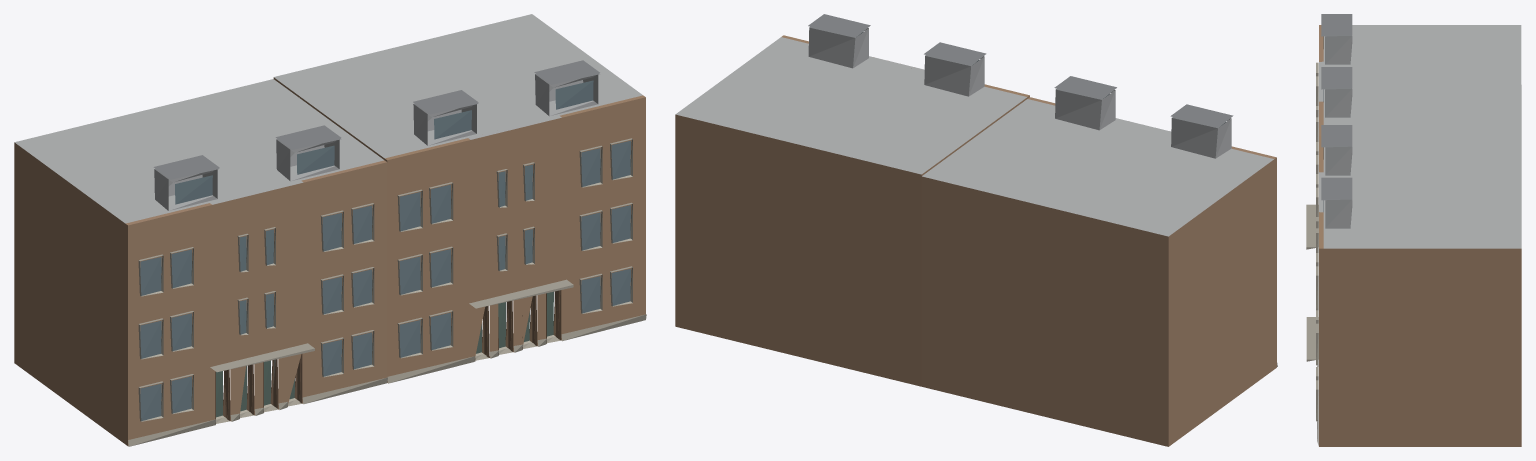
Rendered from chunk-face-andringa-1-31-r1.lod2.glb.
3 views of the same model, side by side, from view 1: azimuth 30°, elevation 25°; view 2: azimuth 150°, elevation 25°; view 3: azimuth 270°, elevation 25° (orthographic). The views are drawn at different scales.
Parts seen in each view (by area): view 1: lod2; view 2: lod2; view 3: lod2.
Boxes of the visible parts, <box> form: lod2: <box>14,14,646,446</box>; lod2: <box>675,14,1277,446</box>; lod2: <box>1306,14,1521,446</box>.
Bounding box in the file's own units: 25.64 × 12.15 × 10.35.
